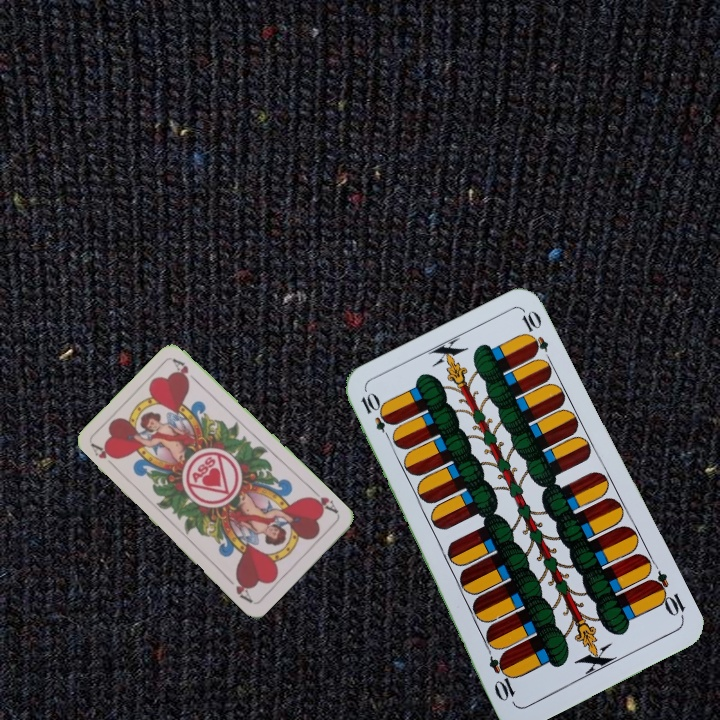E10: (645, 567, 688, 622), (356, 389, 396, 445)
HA: (304, 485, 341, 517), (88, 440, 120, 472)
